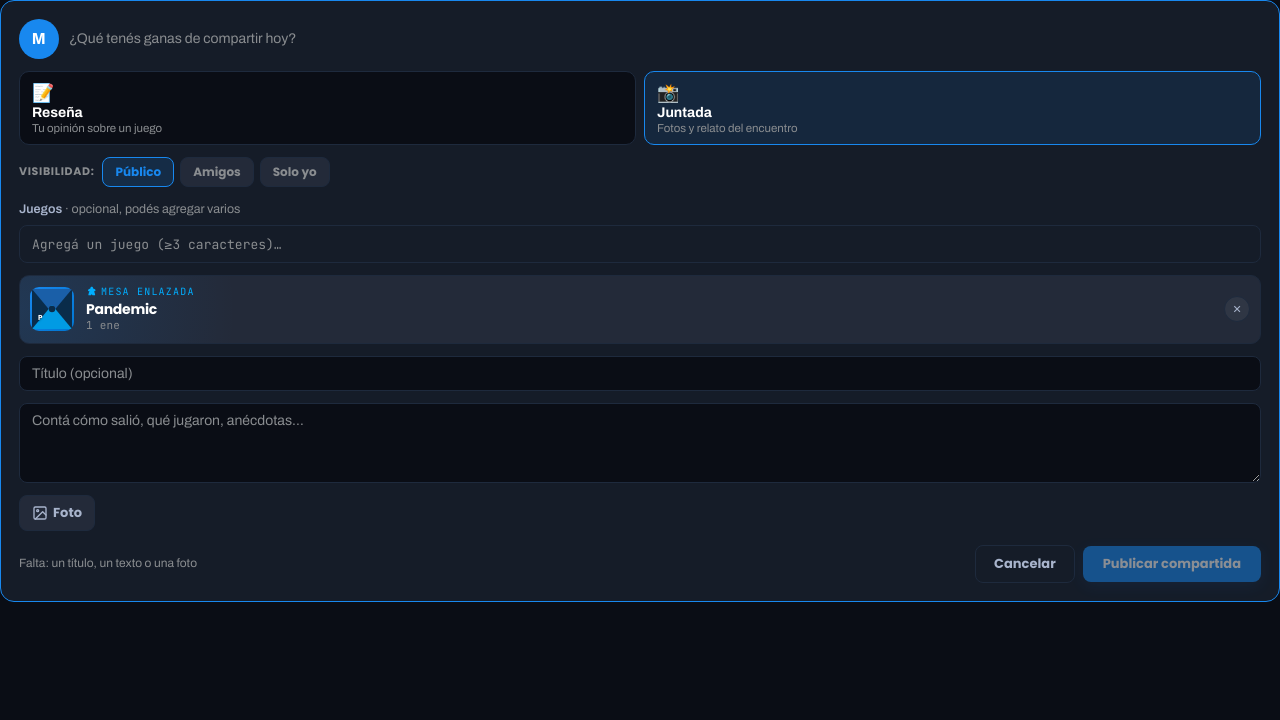
<CreateCompartidaForm> › ✕ del chip desvincula la mesa
Expected: the text "Mesa enlazada" is shown, x1=86 y1=285 x2=195 y2=298
Click the button named "quitar mesa enlazada" at (1237, 309), box x1=1224 y1=296 x2=1250 y2=322
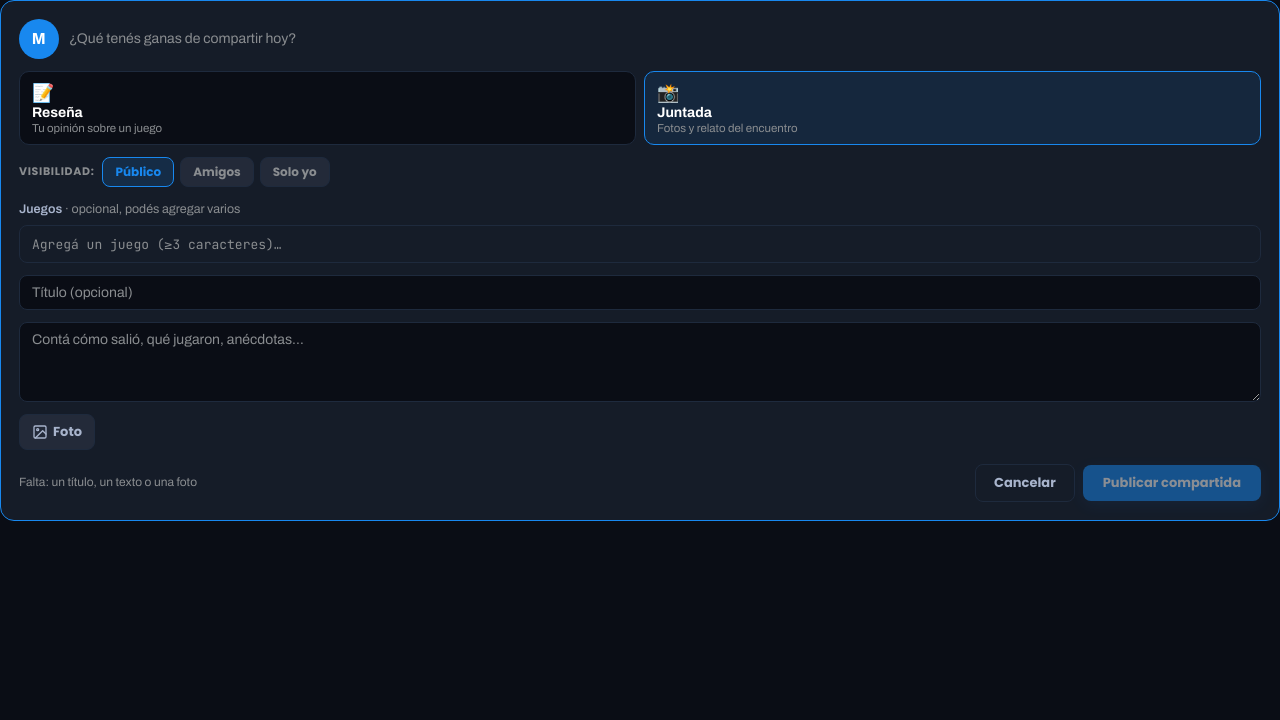
Now the text "Mesa enlazada" is gone
